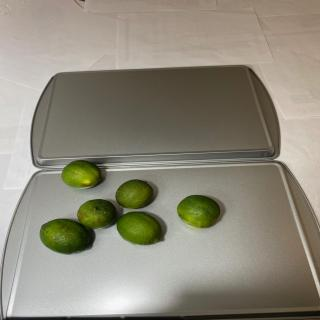Lemon: (39, 218, 91, 255), (116, 211, 162, 246), (177, 194, 220, 228), (77, 199, 116, 229), (115, 179, 154, 209), (61, 160, 101, 189)
